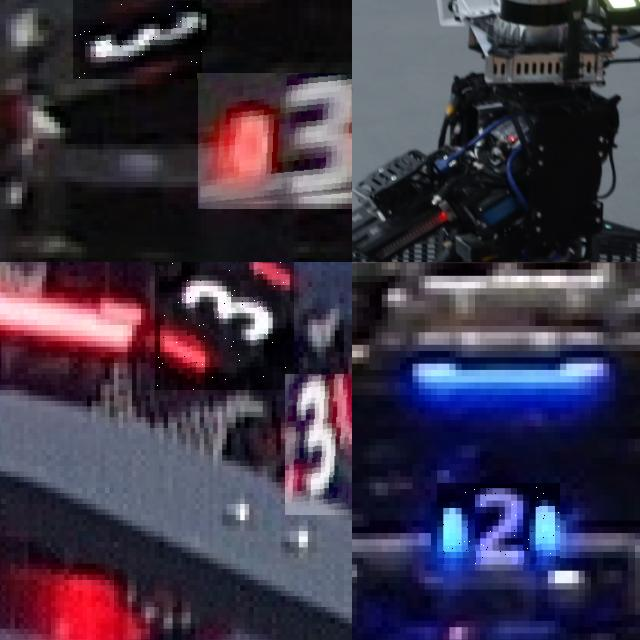B2: (437, 483, 560, 564)
R3: (198, 73, 352, 208), (154, 262, 294, 390), (73, 0, 203, 79), (285, 374, 352, 515)
